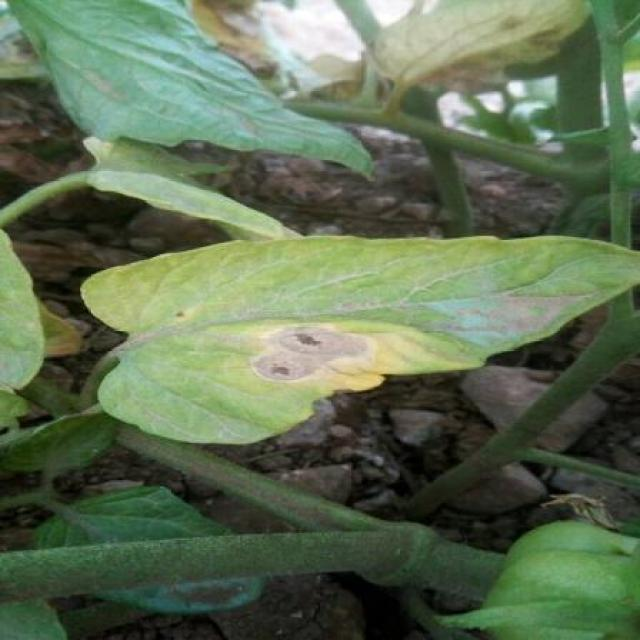Early Blight: (83, 232, 640, 445)
